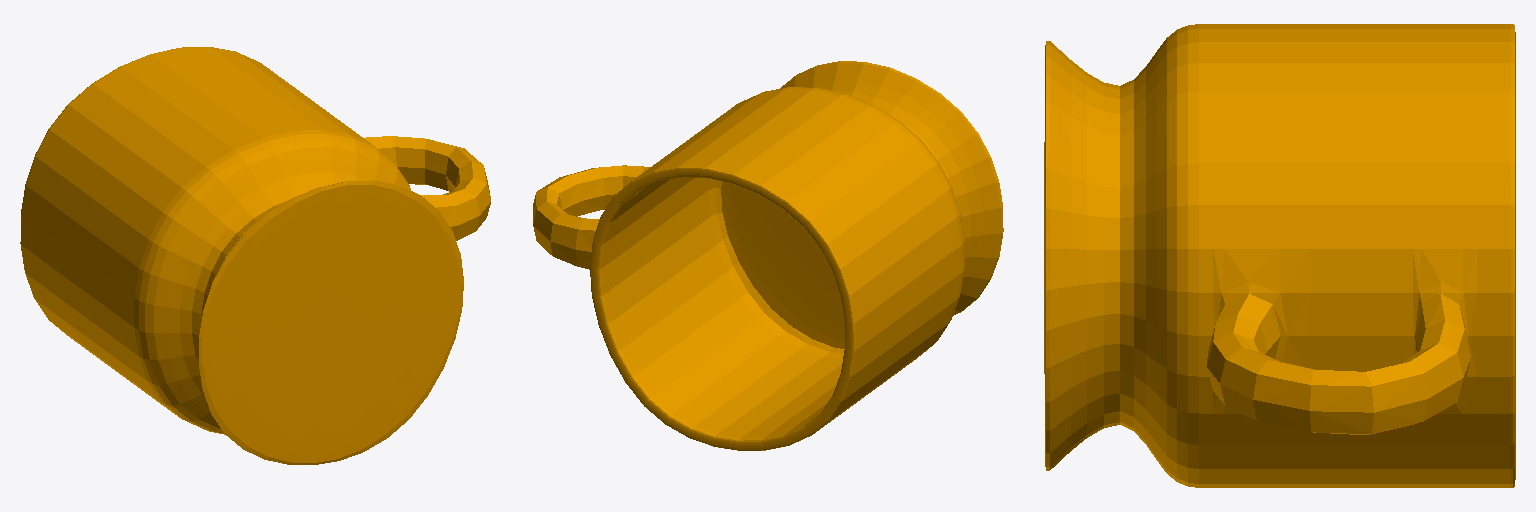
URDF robot description (125):
<?xml version="1.0" ?>
<robot name="125">
  <link name="body">
    <visual>
      <geometry>
        <mesh filename="../shapes/125.obj"/>
      </geometry>
    </visual>
    <collision>
      <geometry>
        <mesh filename="../shapes/125.obj"/>
      </geometry>
    </collision>
  </link>
</robot>

--- What the picture shows (computed from the rendered views, not written in the file) ---
The picture shows the robot from 3 angles, left to right: view 1: azimuth 30°, elevation 25°; view 2: azimuth 150°, elevation 25°; view 3: azimuth 270°, elevation 25°; orthographic projection.
Model 125 with 1 links and 0 joints (none), rooted at body, posed every joint at zero.
Visible links, largest first — view 1: body; view 2: body; view 3: body.
Boxes of the visible links, x1,y1,x2,y2 form: body: (20, 47, 490, 464); body: (533, 61, 1003, 450); body: (1044, 24, 1515, 487).
Size in the robot's own frame: 3.37 by 2.51 by 2.42 metres.
1 mesh visuals loaded from 1 distinct referenced files (1 OBJ).